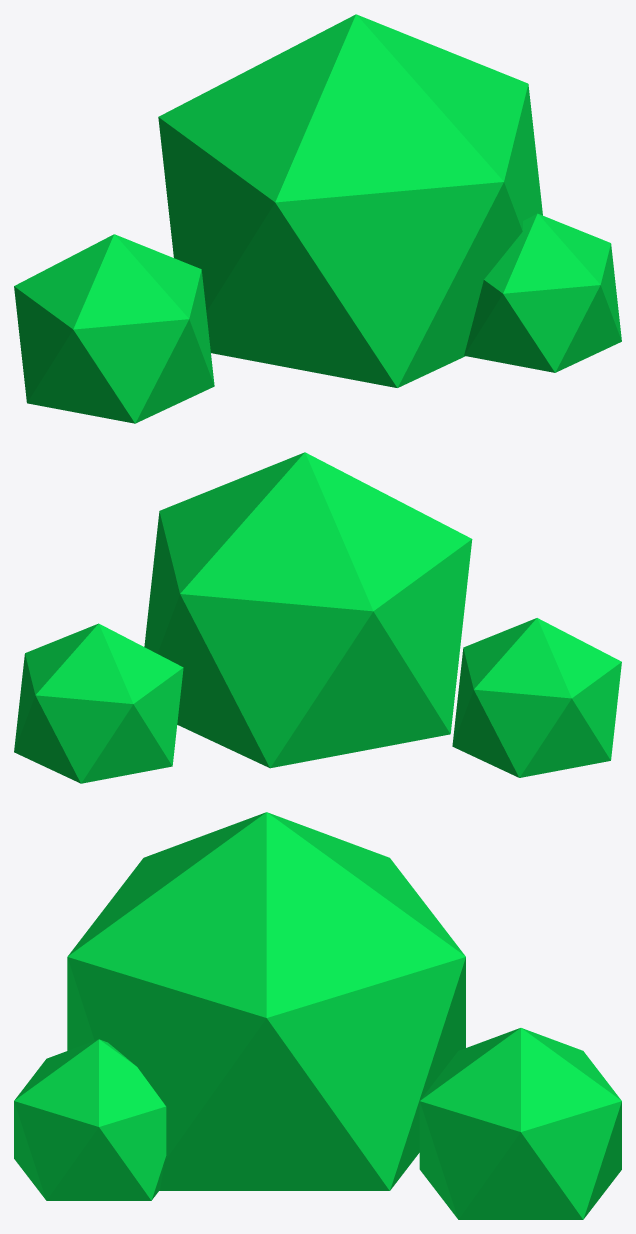
File: Moita1.fbx
3 views of the same model, one above another, from view 1: azimuth 30°, elevation 25°; view 2: azimuth 150°, elevation 25°; view 3: azimuth 270°, elevation 25° (orthographic). The views are drawn at different scales.
Visible parts, largest first — view 1: Icosphere; view 2: Icosphere; view 3: Icosphere.
Boxes of the visible parts, x1=… form: Icosphere: x1=14, y1=14, x2=621, y2=423; Icosphere: x1=14, y1=452, x2=621, y2=783; Icosphere: x1=14, y1=812, x2=621, y2=1219.
Bounding box in the file's own units: 289 × 151 × 259.
